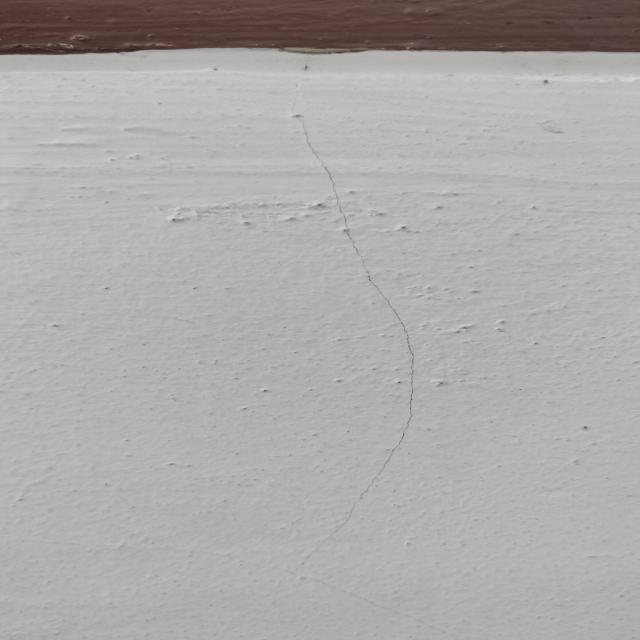Crack: (282, 55, 420, 569)
